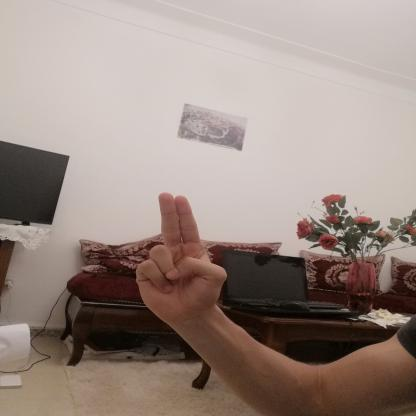TA: (126, 184, 236, 332)
